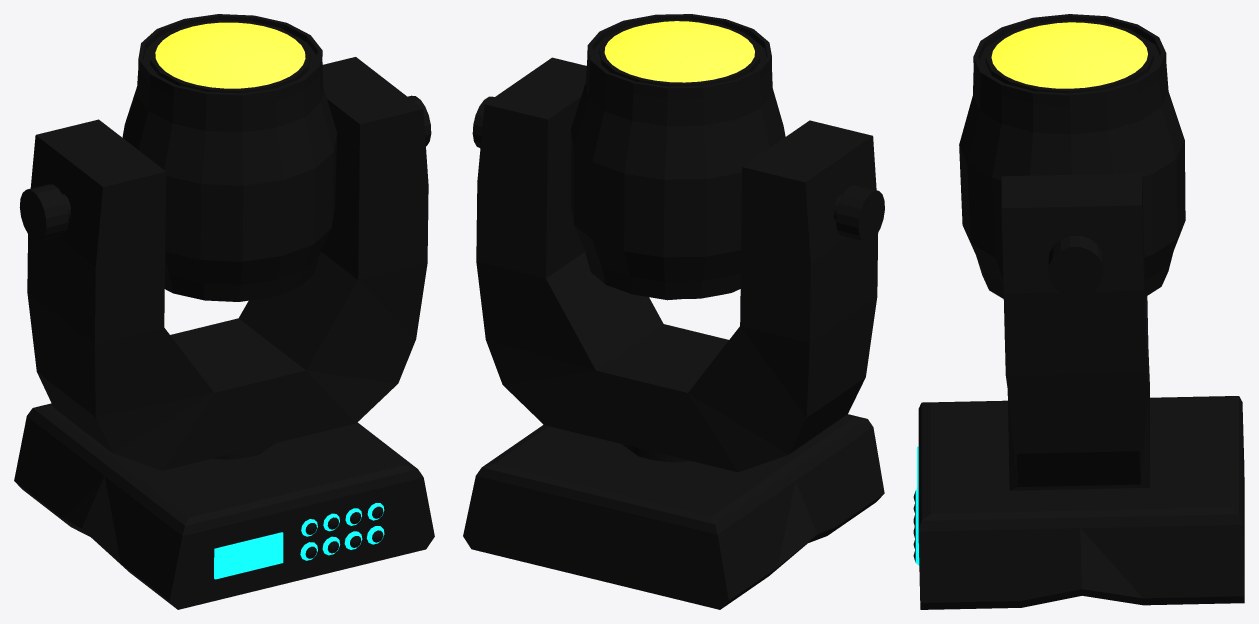
The model's file is lamps.FBX.
The picture shows the model from 3 angles, left to right: view 1: azimuth 30°, elevation 25°; view 2: azimuth 150°, elevation 25°; view 3: azimuth 270°, elevation 25°; orthographic projection. The views are drawn at different scales.
Parts seen in each view (by area): view 1: Stand, Light, Base, Panel; view 2: Stand, Base, Light; view 3: Base, Stand, Light, Panel.
Boxes of the visible parts, bbox=[...] form: Stand: bbox=[19, 57, 431, 470]; Light: bbox=[122, 14, 337, 301]; Base: bbox=[14, 403, 434, 609]; Panel: bbox=[214, 503, 384, 579]; Stand: bbox=[472, 57, 884, 472]; Base: bbox=[463, 414, 884, 609]; Light: bbox=[570, 14, 785, 300]; Base: bbox=[918, 396, 1244, 609]; Stand: bbox=[1001, 173, 1149, 490]; Light: bbox=[959, 14, 1185, 298]; Panel: bbox=[913, 446, 919, 565].
Bounding box in the file's own units: 1741 × 2114 × 1245.
